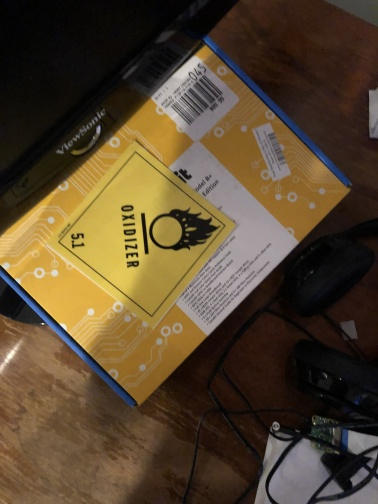Oxidizer: (45, 140, 238, 329)
